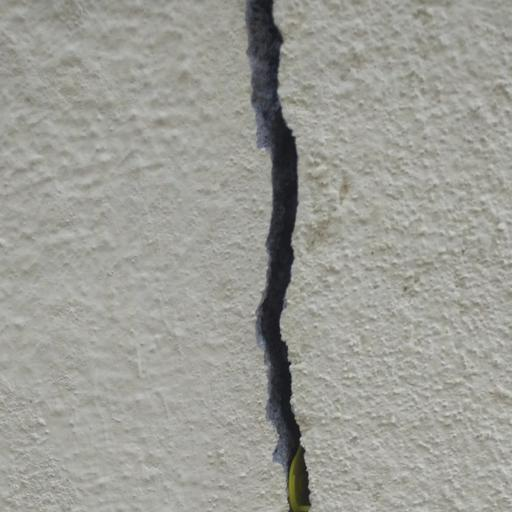major_crack: (229, 0, 331, 512)
